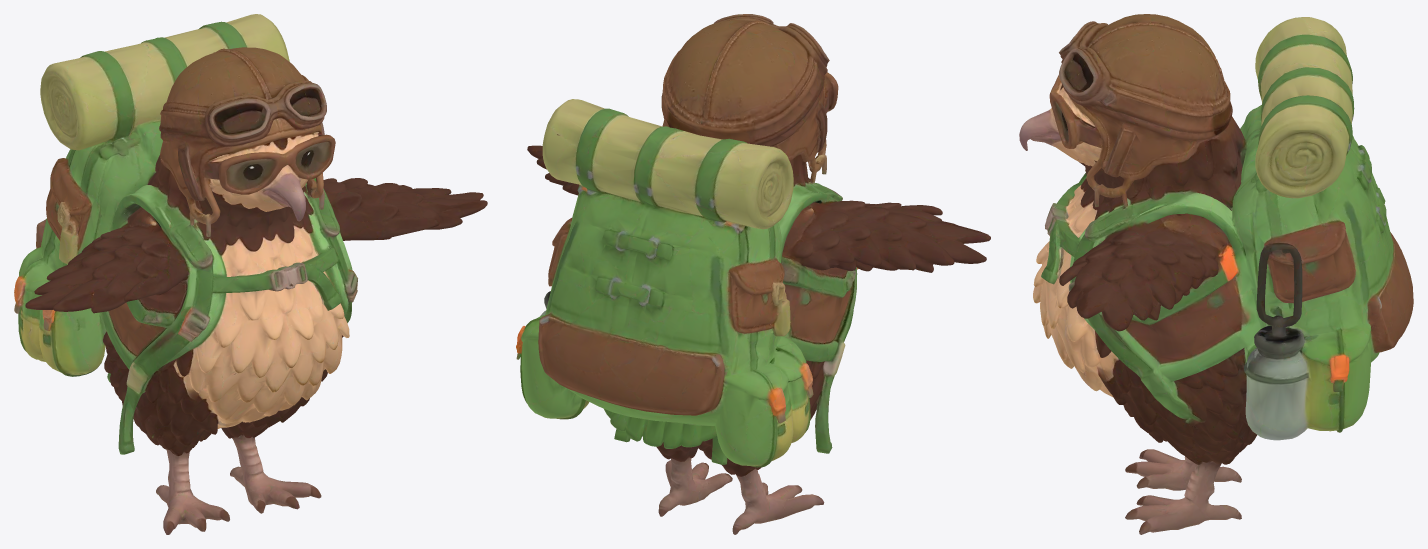
The model's file is kiwi.glb.
3 views of the same model, side by side, from view 1: azimuth 30°, elevation 25°; view 2: azimuth 150°, elevation 25°; view 3: azimuth 270°, elevation 25° (orthographic). The views are drawn at different scales.
Size of the model in its own units: 1.9 by 1.86 by 1.38.
1 material, 1 textured.
